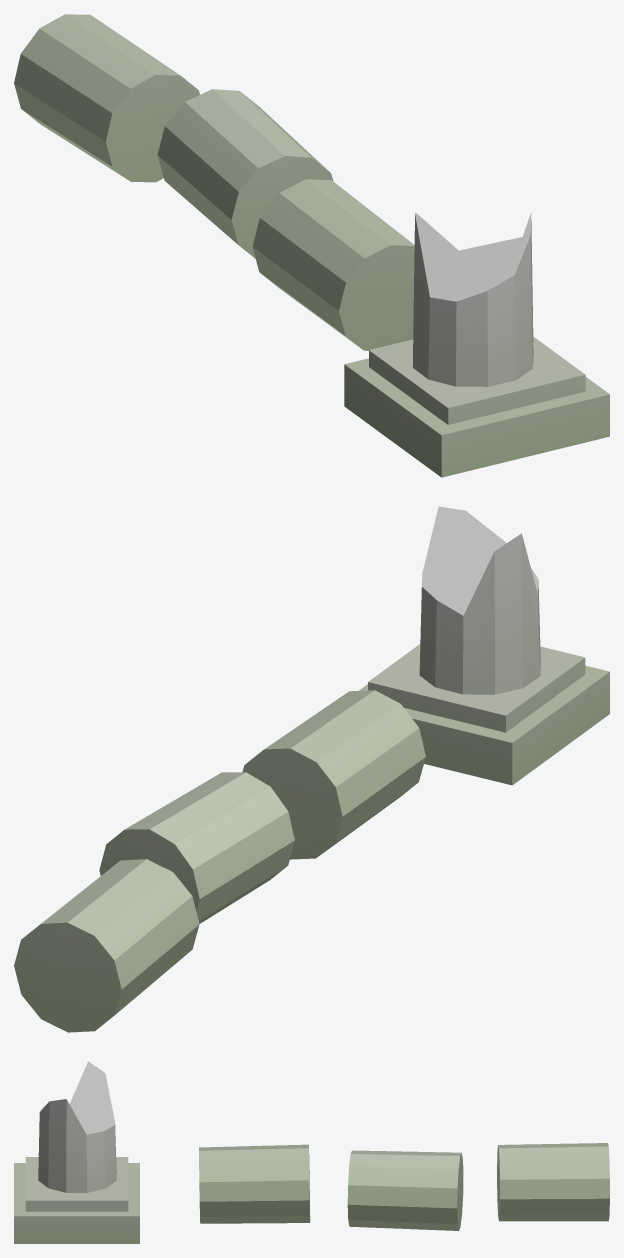
The model's file is pillar_fallen.glb.
The picture shows the model from 3 angles, top to bottom: view 1: azimuth 30°, elevation 25°; view 2: azimuth 150°, elevation 25°; view 3: azimuth 270°, elevation 25°; orthographic projection. The views are drawn at different scales.
Parts seen in each view (by area): view 1: Pillar; view 2: Pillar; view 3: Pillar.
Part boxes in pixels (bbox=[...]): Pillar: bbox=[14, 14, 609, 477]; Pillar: bbox=[14, 506, 609, 1032]; Pillar: bbox=[14, 1061, 609, 1243].
Size of the model in its own units: 1.25 by 1.54 by 5.91.
